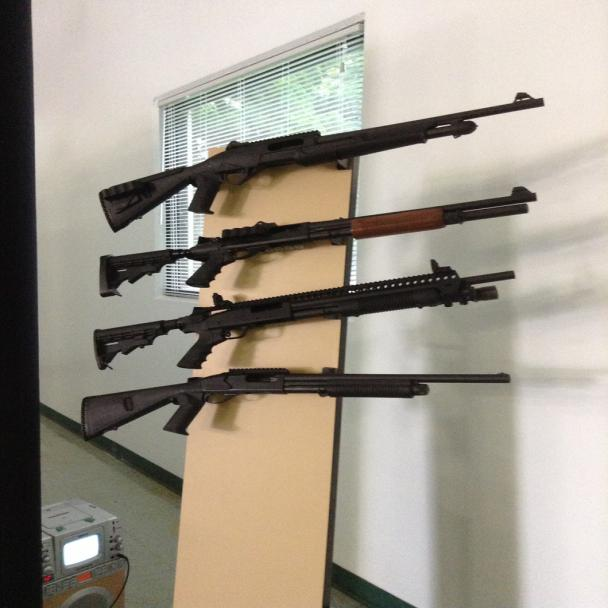Gun: (51, 78, 555, 228), (45, 176, 589, 295), (37, 346, 557, 469), (62, 257, 552, 368)
